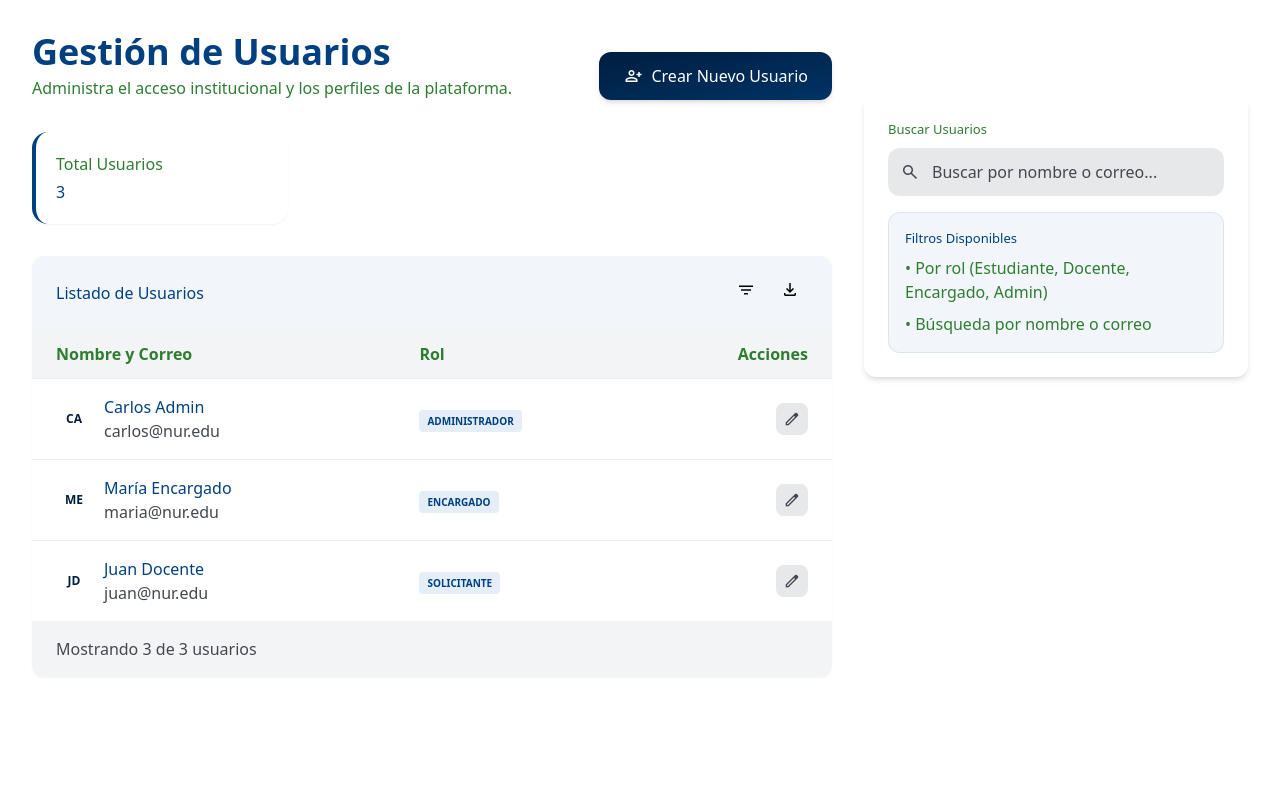
Test: UserManagementView Component › debería filtrar usuarios según el buscador de texto
Expected: the text "Carlos Admin" is shown, left=104, top=395, right=220, bottom=419
Type "maria" into the field with placeholder "Buscar por nombre o correo..." at (1056, 172), box left=888, top=148, right=1224, bottom=196
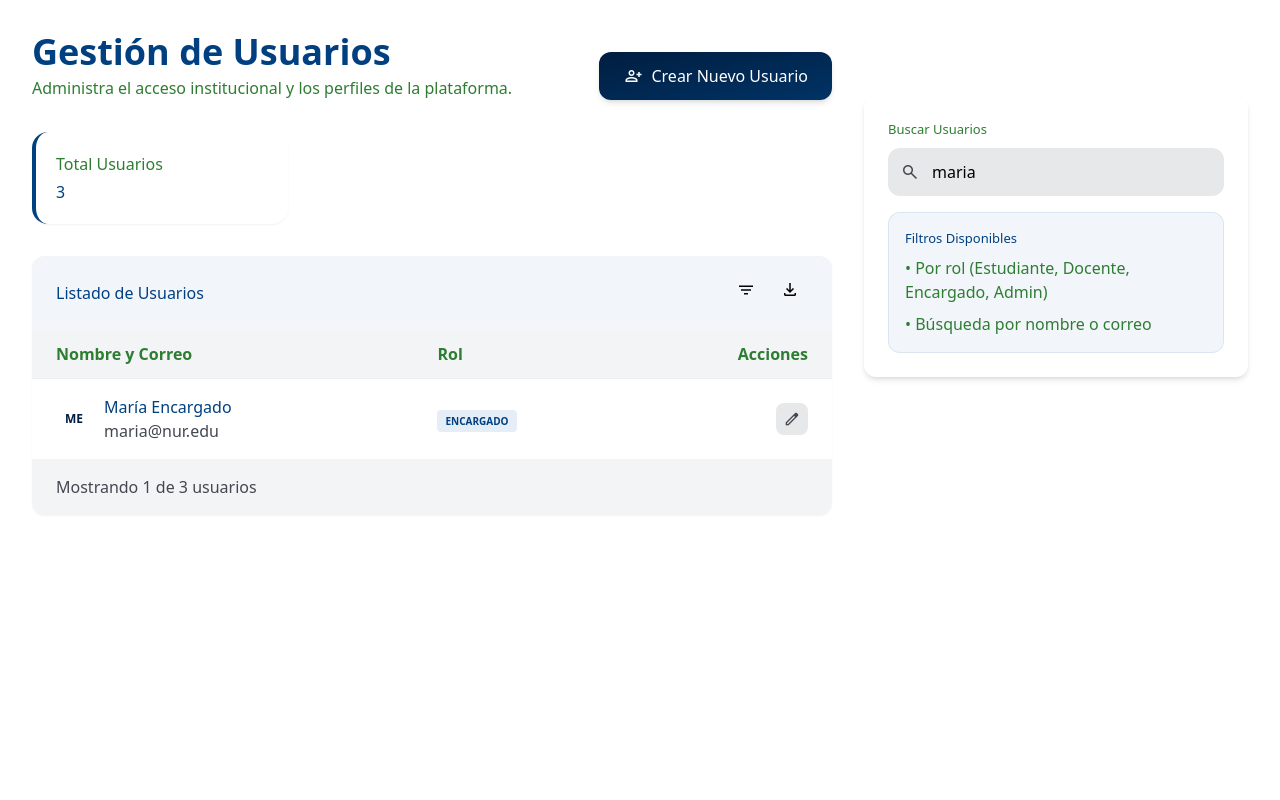
Expected: the text "María Encargado" is shown, left=104, top=395, right=232, bottom=419
Result: the text "Carlos Admin" is gone
Result: the text "Juan Docente" is gone
